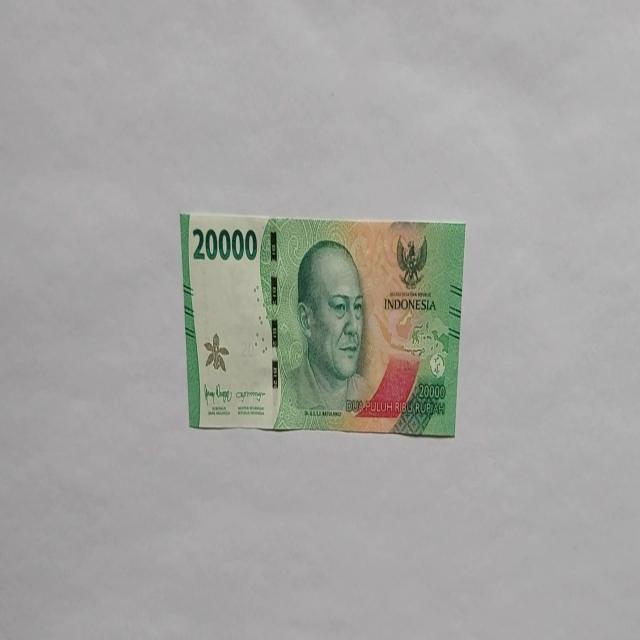dua puluh ribu rupiah: (179, 210, 466, 437), (273, 238, 377, 430)
